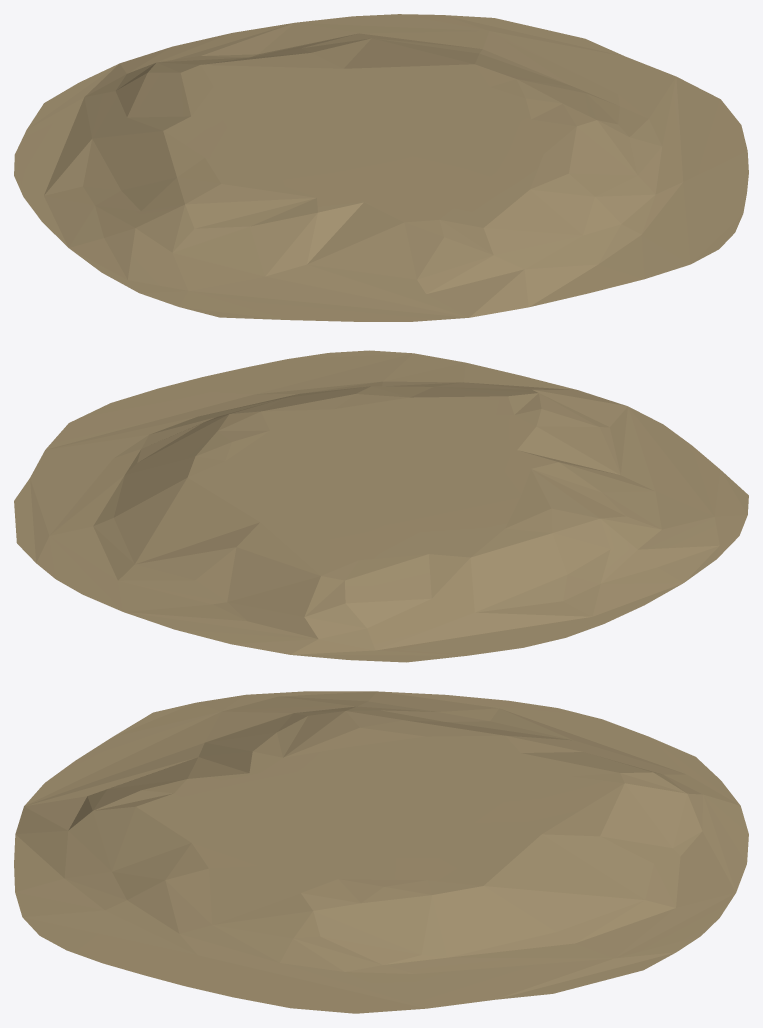
Rendered from SM_Env_Beach_01.glb.
The picture shows the model from 3 angles, top to bottom: view 1: azimuth 30°, elevation 25°; view 2: azimuth 150°, elevation 25°; view 3: azimuth 270°, elevation 25°; orthographic projection. The views are drawn at different scales.
Parts seen in each view (by area): view 1: SM_Env_Beach_01; view 2: SM_Env_Beach_01; view 3: SM_Env_Beach_01.
Part boxes in pixels (<box>): SM_Env_Beach_01: <box>14,14,748,321</box>; SM_Env_Beach_01: <box>14,350,748,662</box>; SM_Env_Beach_01: <box>14,691,748,1013</box>.
Size of the model in its own units: 0.2357 by 0.0123 by 0.227.
